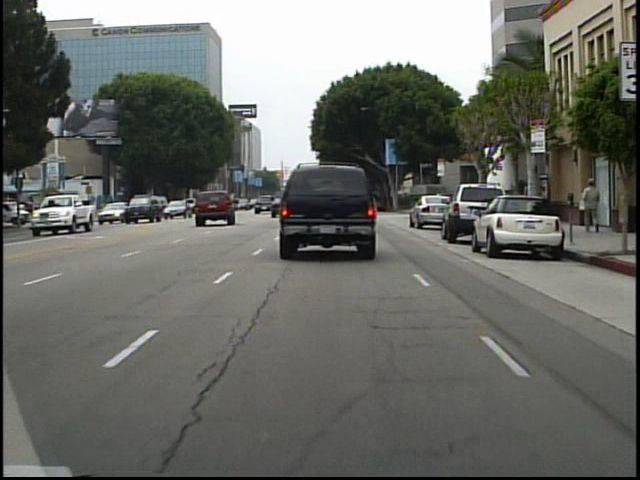person: (577, 174, 603, 237), (471, 177, 490, 220), (42, 198, 58, 226)
